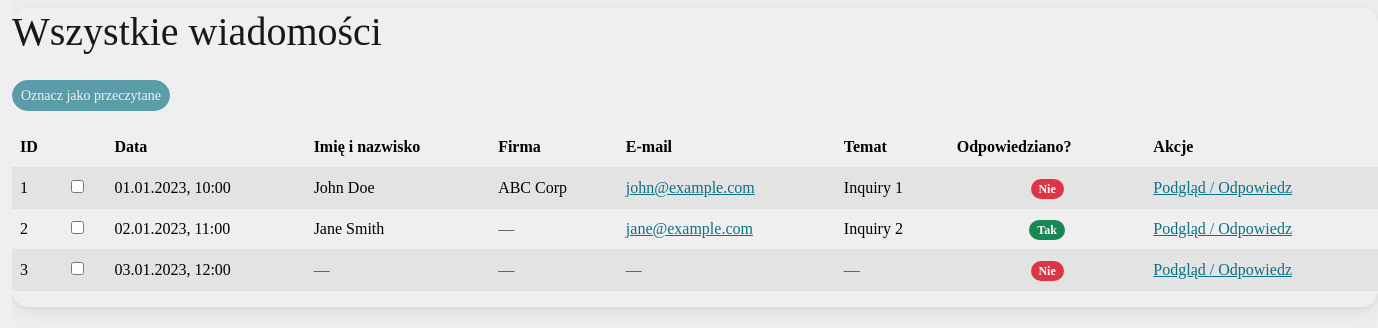
Test: MessagesList › disables "Oznacz jako przeczytane" button when no messages are selected
Expected: the text "John Doe" is shown, [306,168,490,208]
Expected: the button "Oznacz jako przeczytane" is disabled, [12,80,170,111]
Click the checkbox with test id "message-checkbox-1" at (77, 186), box [71,180,84,193]
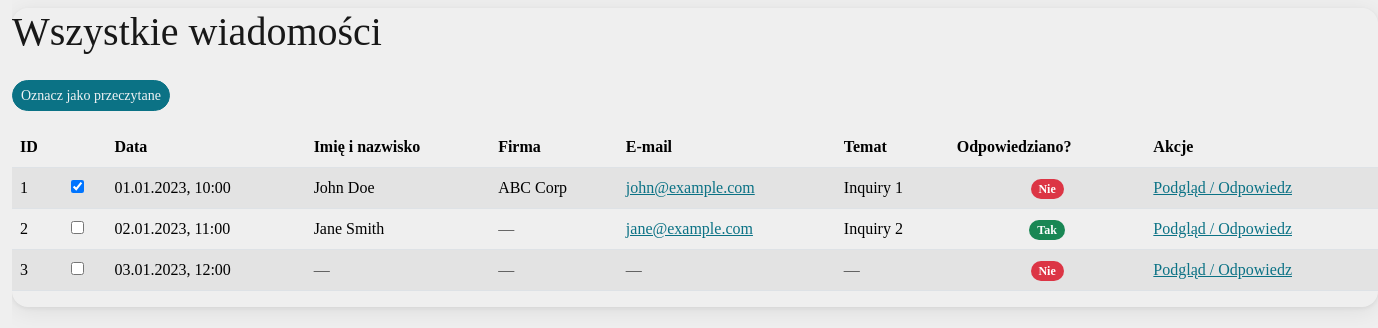
Now the button "Oznacz jako przeczytane" is enabled, box [12,80,170,111]
Click the checkbox with test id "message-checkbox-1" at (77, 186), box [71,180,84,193]
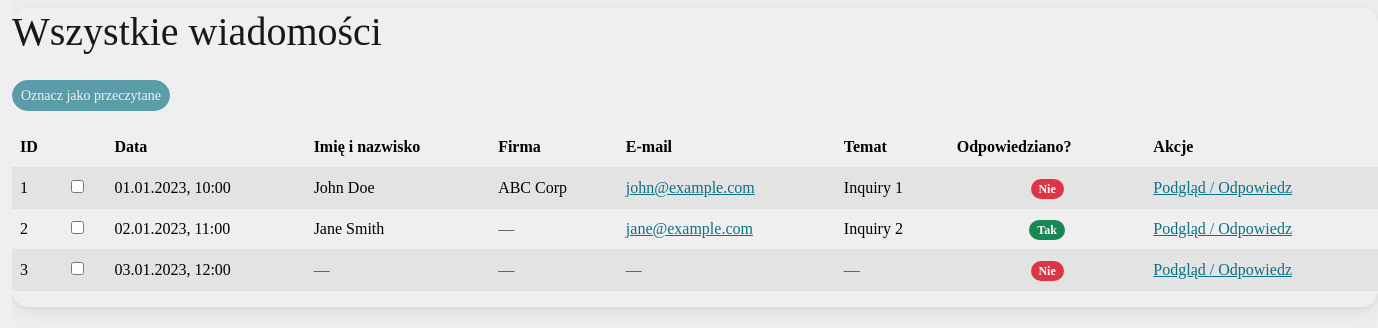
Now the button "Oznacz jako przeczytane" is disabled, box [12,80,170,111]
